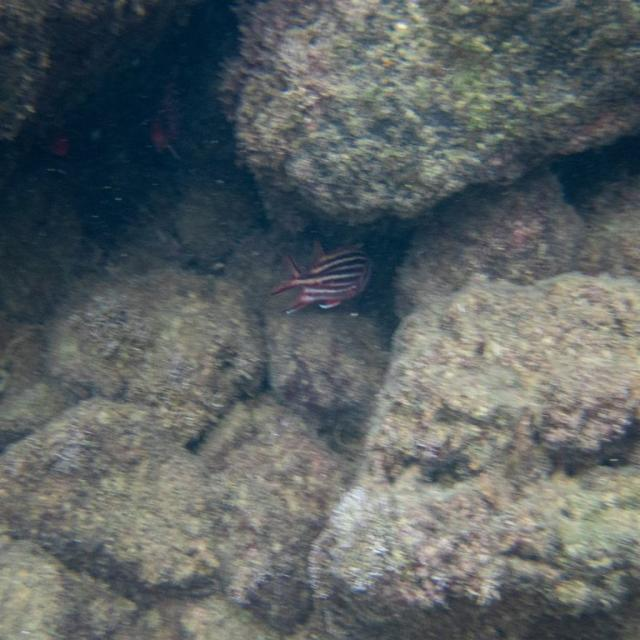Asker Baligi: (266, 216, 396, 324)
